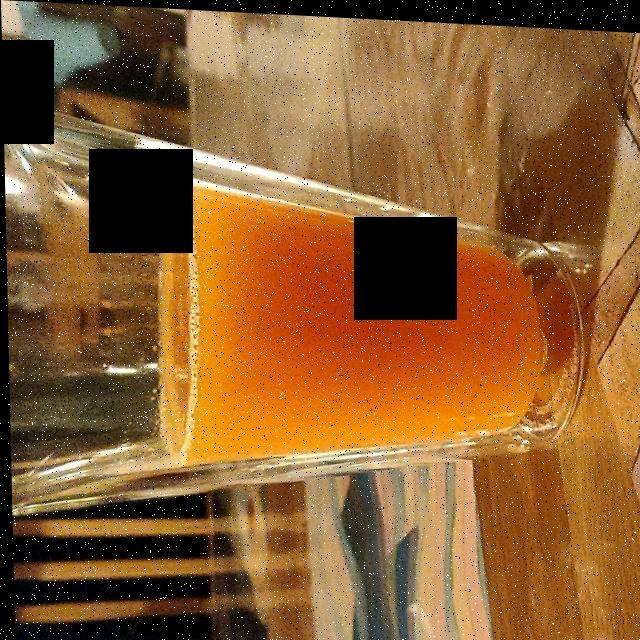juice: (157, 163, 548, 465)
